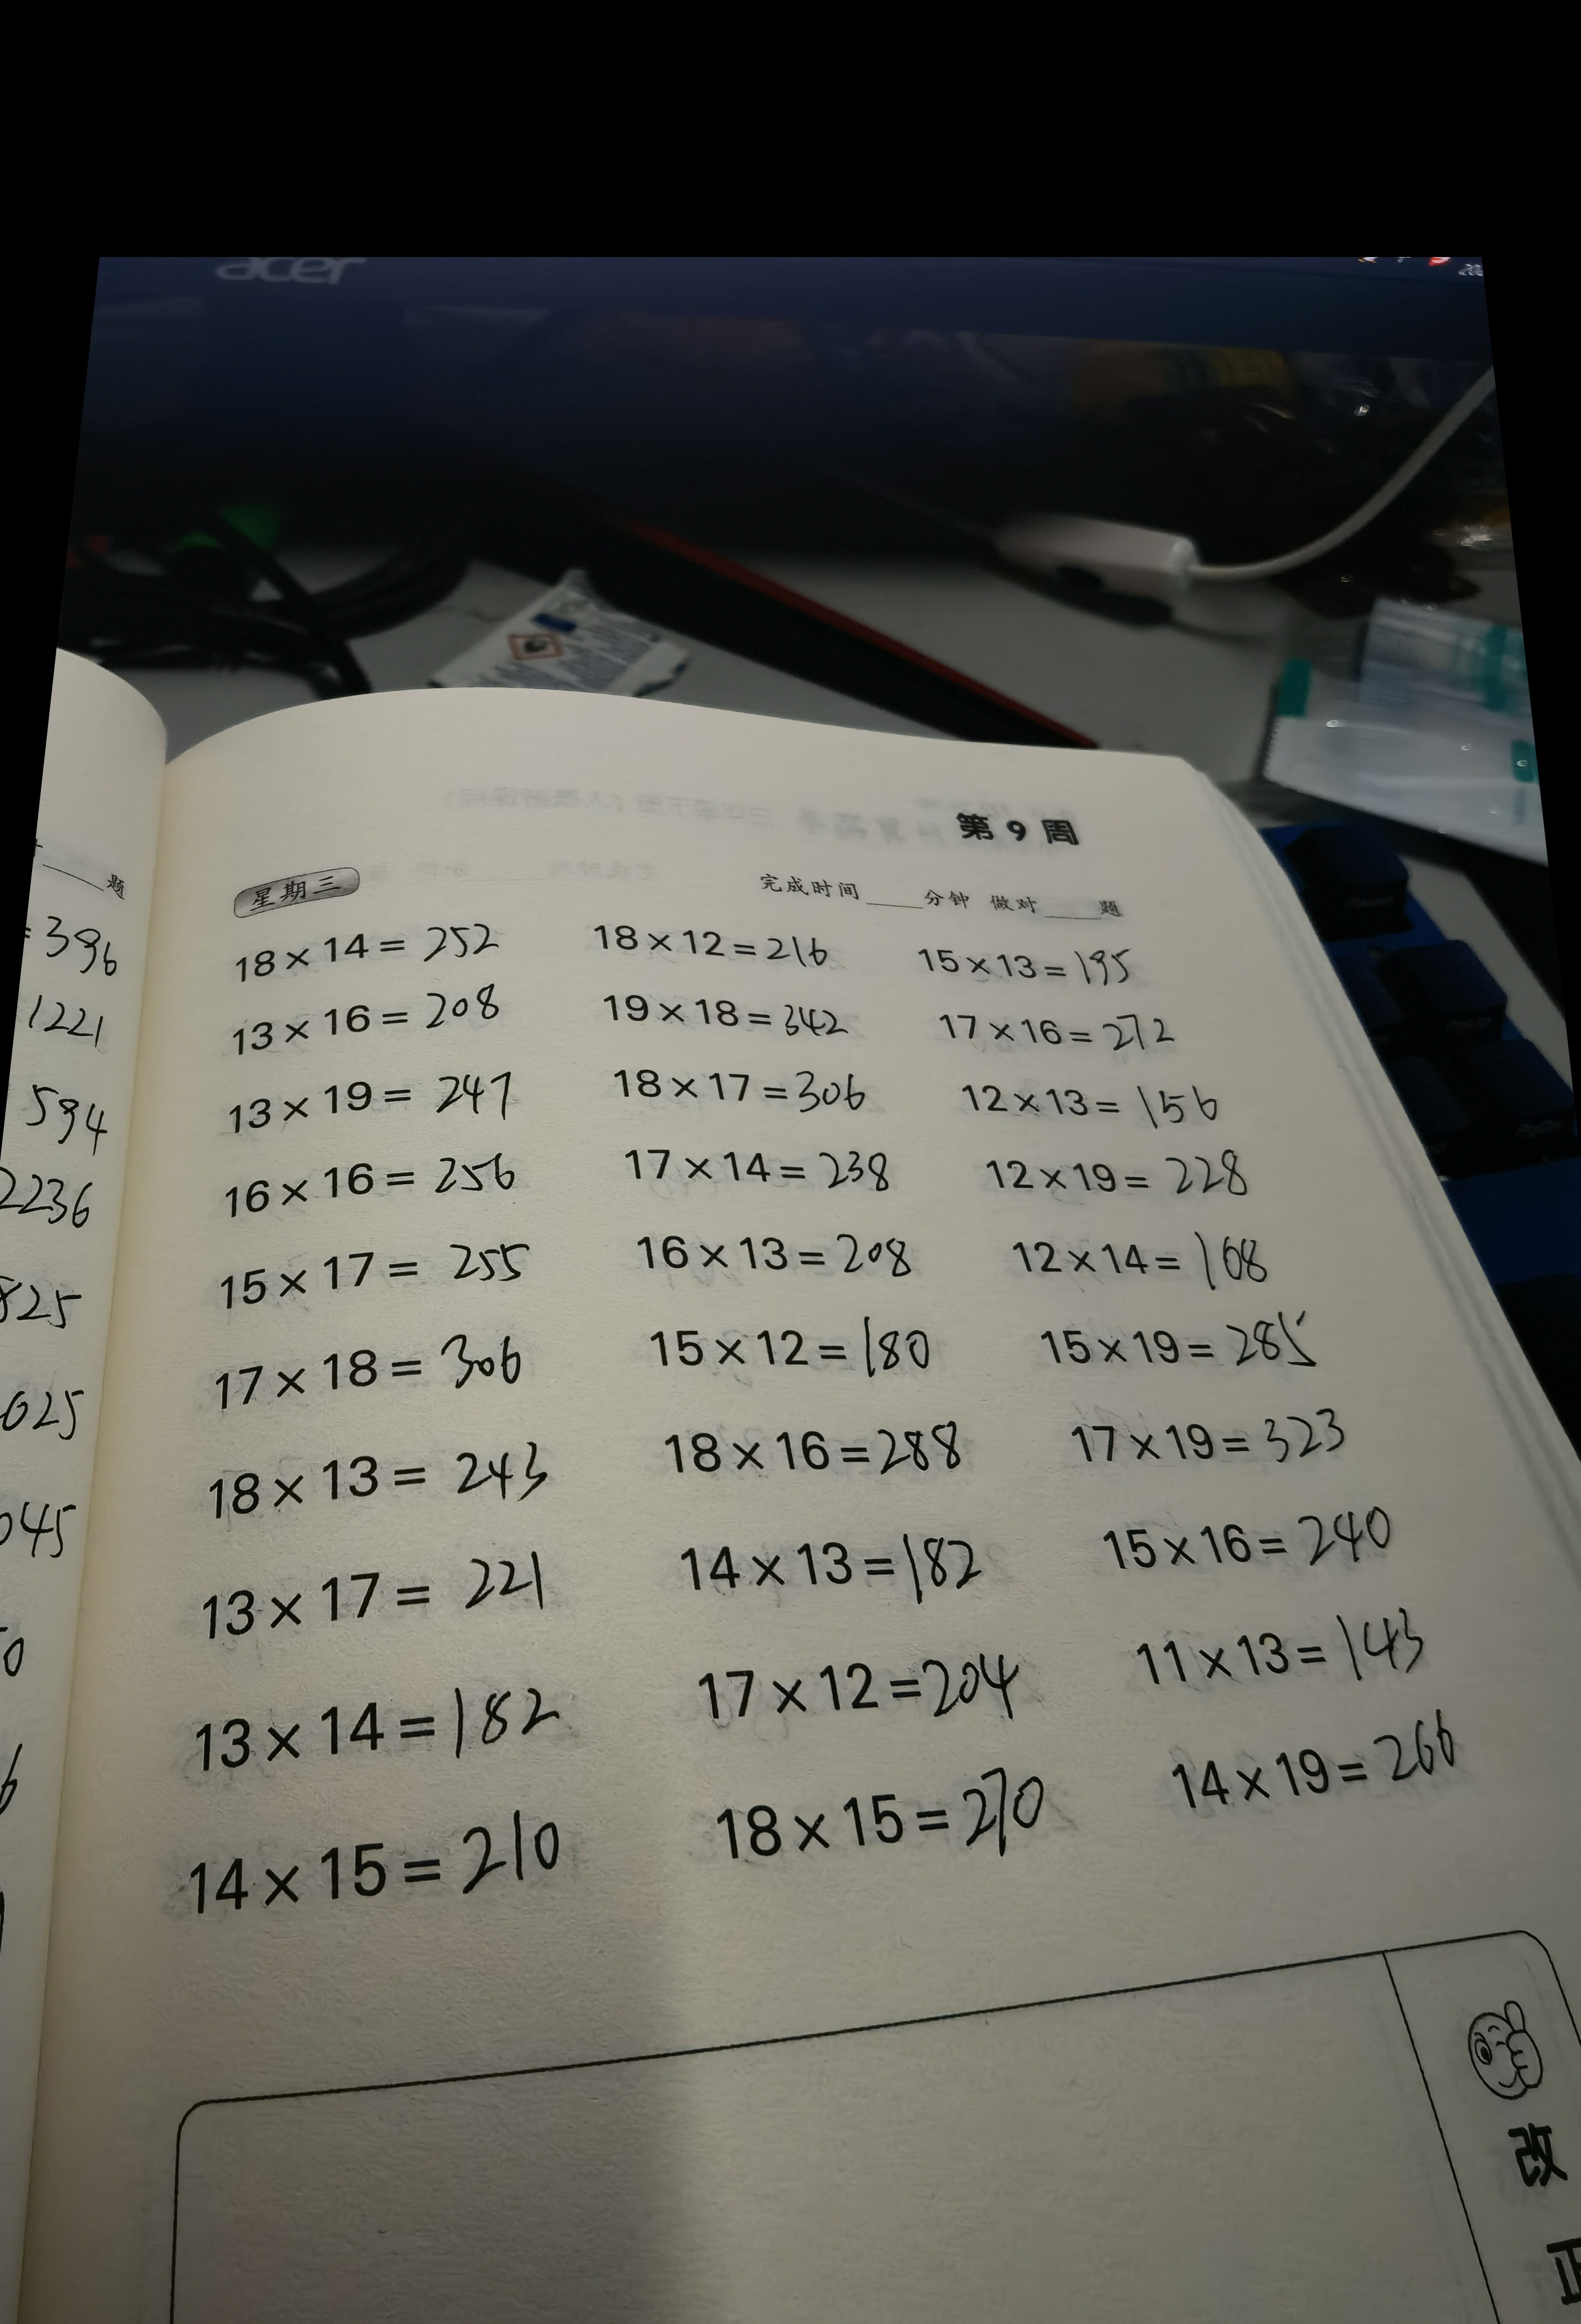equation: (139, 1798, 570, 1925), (697, 1758, 1117, 1869), (1145, 1701, 1493, 1825), (159, 1535, 573, 1634), (134, 1676, 581, 1768), (148, 1442, 565, 1528), (639, 1385, 988, 1481), (1122, 1593, 1487, 1682), (176, 1131, 549, 1218), (593, 1122, 921, 1216), (157, 1329, 543, 1408), (1099, 1498, 1463, 1578), (1057, 1385, 1364, 1477), (1006, 1202, 1299, 1297), (602, 1212, 930, 1297), (655, 1528, 1057, 1595), (642, 1302, 962, 1380), (176, 1230, 565, 1293), (189, 1061, 543, 1129), (676, 1657, 1039, 1724), (958, 1129, 1292, 1200), (593, 1046, 873, 1129), (189, 914, 533, 979), (577, 900, 858, 976), (1022, 1309, 1364, 1369), (192, 990, 528, 1050), (951, 1057, 1249, 1122), (921, 985, 1202, 1053), (905, 921, 1172, 979), (593, 985, 847, 1045)
